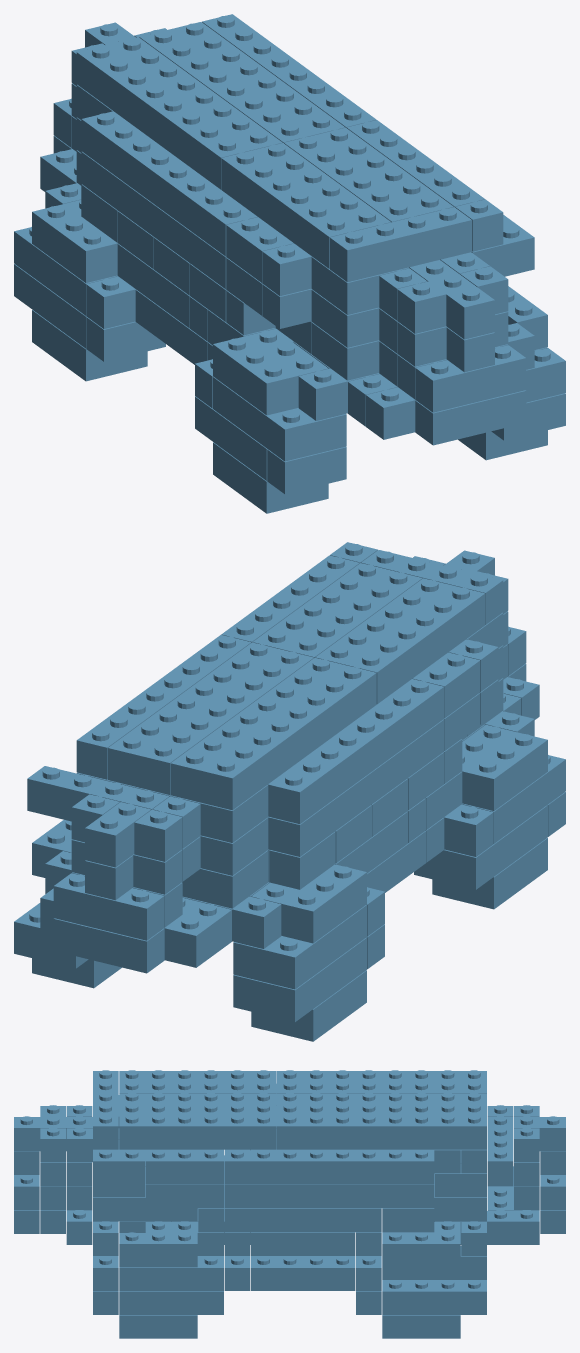
Rendered from 246_train_L1.glb.
3 views of the same model, one above another, from view 1: azimuth 30°, elevation 25°; view 2: azimuth 150°, elevation 25°; view 3: azimuth 270°, elevation 25° (orthographic). The views are drawn at different scales.
Bounding box in the file's own units: 8.98 × 8.13 × 20.98.
